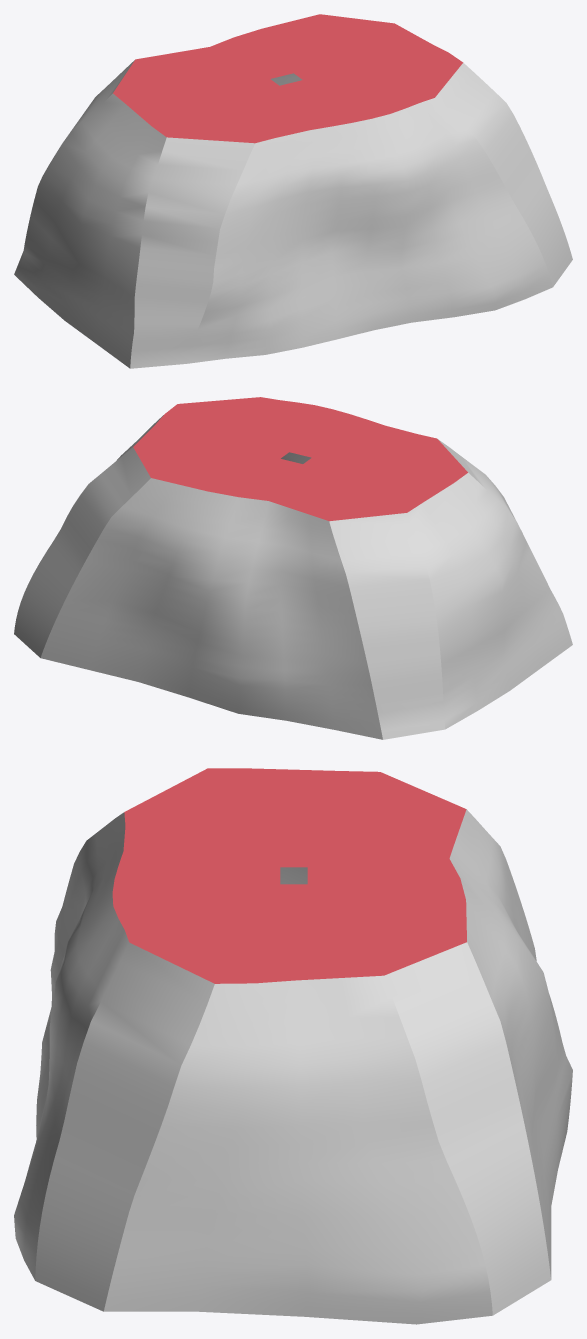
File: Terreno_Vila.fbx
3 views of the same model, one above another, from view 1: azimuth 30°, elevation 25°; view 2: azimuth 150°, elevation 25°; view 3: azimuth 270°, elevation 25° (orthographic). The views are drawn at different scales.
Visible parts, largest first — view 1: Plane.002; view 2: Plane.002; view 3: Plane.002.
Part boxes in pixels (<box>): Plane.002: <box>14,14,572,368</box>; Plane.002: <box>14,397,572,739</box>; Plane.002: <box>14,768,572,1324</box>.
Bounding box in the file's own units: 404115 × 161531 × 291370.
